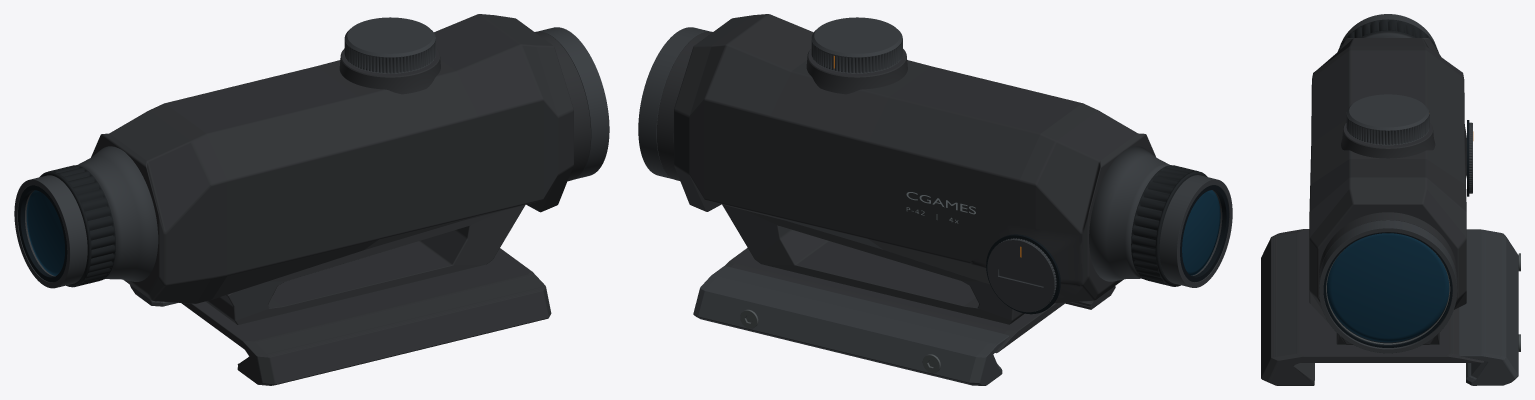
The model's file is P42_4x_Compact_X50_Rail.glb.
3 renders of one model, left to right at view 1: azimuth 30°, elevation 25°; view 2: azimuth 150°, elevation 25°; view 3: azimuth 270°, elevation 25°, orthographic. The views are drawn at different scales.
Parts seen in each view (by area): view 1: 01 PRIMARY | faceted prism housing, 21 LOWER SHELL | thin bridge and fixed edge, 20 UPPER FOOT | open angular saddle, 07 REAR | short taper neck, 10 REAR | end rim, 14 TOP | cap stepped core, 09 REAR | integrated axial rubber grip, 02 FRONT | short protective lip, 12 REAR | visual glass, 03 FRONT | narrow second shoulder, 13 TOP | compact housing boss, 15 TOP | actual fine axial flutes (+2 smaller); view 2: 01 PRIMARY | faceted prism housing, 22 SIDE STRIP | independent continuous bar, 20 UPPER FOOT | open angular saddle, 07 REAR | short taper neck, 21 LOWER SHELL | thin bridge and fixed edge, 18 SIDE | circular cap, 10 REAR | end rim, 14 TOP | cap stepped core, 09 REAR | integrated axial rubber grip, 02 FRONT | short protective lip, 16 SIDE | shallow integral control root, 12 REAR | visual glass (+6 smaller); view 3: 01 PRIMARY | faceted prism housing, 21 LOWER SHELL | thin bridge and fixed edge, 06 FRONT | recessed curved visual coating, 22 SIDE STRIP | independent continuous bar, 02 FRONT | short protective lip, 14 TOP | cap stepped core, 13 TOP | compact housing boss, 04 FRONT | dark cylindrical well, 15 TOP | actual fine axial flutes, 03 FRONT | narrow second shoulder, 09 REAR | integrated axial rubber grip, 10 REAR | end rim (+4 smaller).
Part boxes in pixels (left/top/right/bottom): 01 PRIMARY | faceted prism housing: left=91, top=14, right=573, bottom=303; 21 LOWER SHELL | thin bridge and fixed edge: left=181, top=248, right=551, bottom=385; 20 UPPER FOOT | open angular saddle: left=205, top=205, right=525, bottom=324; 07 REAR | short taper neck: left=76, top=146, right=158, bottom=281; 10 REAR | end rim: left=14, top=175, right=87, bottom=288; 14 TOP | cap stepped core: left=345, top=17, right=435, bottom=73; 09 REAR | integrated axial rubber grip: left=48, top=165, right=115, bottom=287; 02 FRONT | short protective lip: left=538, top=27, right=609, bottom=179; 12 REAR | visual glass: left=26, top=190, right=64, bottom=275; 03 FRONT | narrow second shoulder: left=535, top=31, right=590, bottom=181; 13 TOP | compact housing boss: left=339, top=48, right=440, bottom=94; 15 TOP | actual fine axial flutes: left=344, top=37, right=435, bottom=73; 01 PRIMARY | faceted prism housing: left=674, top=14, right=1155, bottom=303; 22 SIDE STRIP | independent continuous bar: left=693, top=266, right=1009, bottom=385; 20 UPPER FOOT | open angular saddle: left=722, top=204, right=1024, bottom=324; 07 REAR | short taper neck: left=1089, top=146, right=1171, bottom=281; 21 LOWER SHELL | thin bridge and fixed edge: left=725, top=247, right=1115, bottom=353; 18 SIDE | circular cap: left=987, top=239, right=1054, bottom=312; 10 REAR | end rim: left=1159, top=175, right=1232, bottom=287; 14 TOP | cap stepped core: left=811, top=17, right=902, bottom=73; 09 REAR | integrated axial rubber grip: left=1131, top=165, right=1197, bottom=286; 02 FRONT | short protective lip: left=638, top=27, right=709, bottom=179; 16 SIDE | shallow integral control root: left=970, top=223, right=1084, bottom=299; 12 REAR | visual glass: left=1182, top=190, right=1220, bottom=275; 01 PRIMARY | faceted prism housing: left=1309, top=38, right=1466, bottom=344; 21 LOWER SHELL | thin bridge and fixed edge: left=1261, top=229, right=1483, bottom=385; 06 FRONT | recessed curved visual coating: left=1327, top=233, right=1449, bottom=342; 22 SIDE STRIP | independent continuous bar: left=1459, top=229, right=1518, bottom=385; 02 FRONT | short protective lip: left=1319, top=220, right=1457, bottom=353; 14 TOP | cap stepped core: left=1347, top=94, right=1429, bottom=145; 13 TOP | compact housing boss: left=1341, top=122, right=1435, bottom=158; 04 FRONT | dark cylindrical well: left=1323, top=232, right=1452, bottom=347; 15 TOP | actual fine axial flutes: left=1346, top=112, right=1429, bottom=144; 03 FRONT | narrow second shoulder: left=1319, top=212, right=1457, bottom=280; 09 REAR | integrated axial rubber grip: left=1338, top=19, right=1437, bottom=50; 10 REAR | end rim: left=1339, top=14, right=1436, bottom=46.
Bounding box in the file's own units: 0.1602 × 0.0746 × 0.0752.
